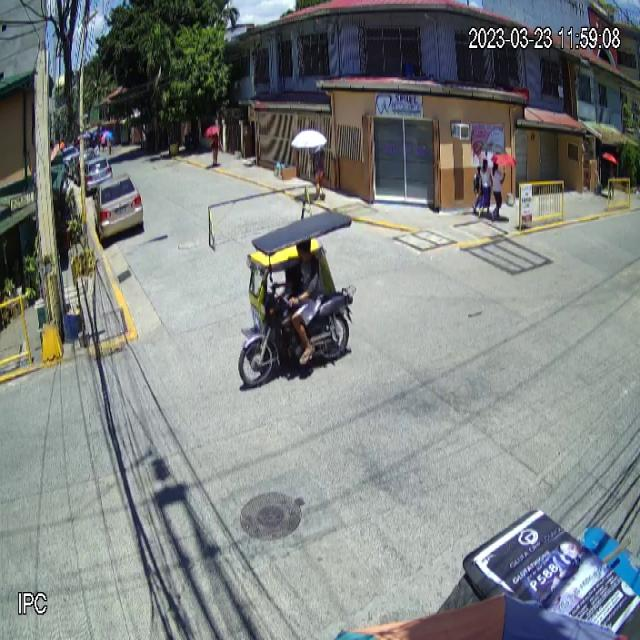Car: (93, 172, 144, 244)
Tricycle: (238, 209, 358, 388)
